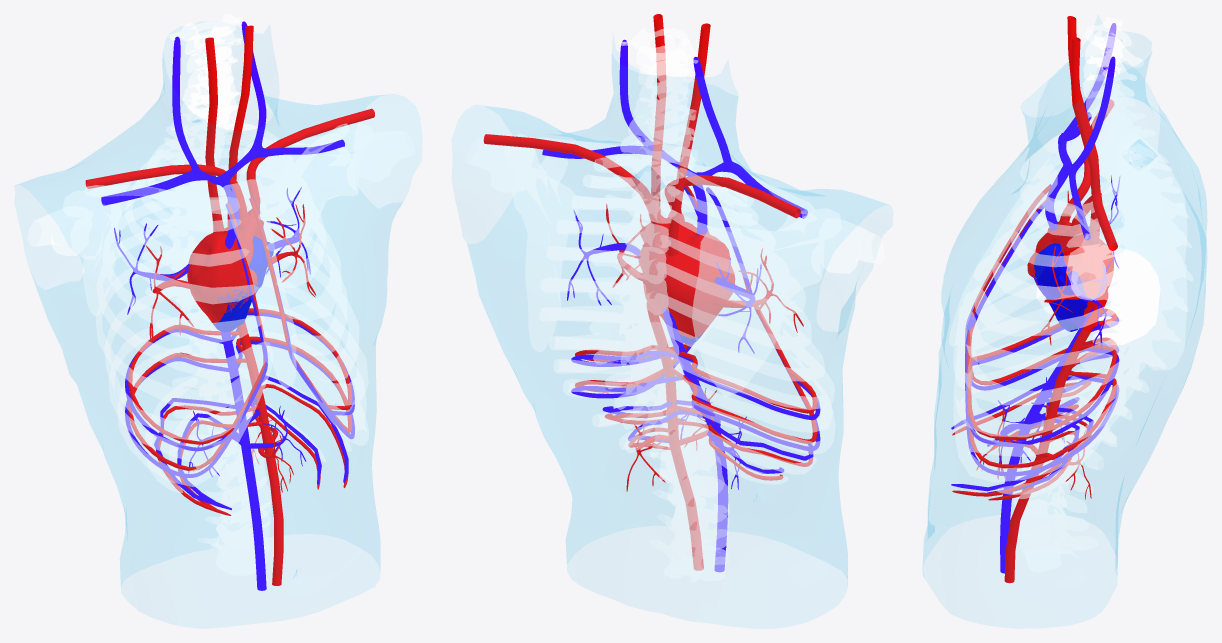
The model's file is x-ray_torso.glb.
The picture shows the model from 3 angles, left to right: view 1: azimuth 30°, elevation 25°; view 2: azimuth 150°, elevation 25°; view 3: azimuth 270°, elevation 25°; orthographic projection. The views are drawn at different scales.
Visible parts, largest first — view 1: BONES_PELVIS_SkeletonMesh.006, Mesh.157_l-hip-upper-abdomen_b, RedV, BlueV, Heart, Cylinder.002; view 2: BONES_PELVIS_SkeletonMesh.006, Mesh.157_l-hip-upper-abdomen_b, RedV, BlueV, Heart, Cylinder.002; view 3: BONES_PELVIS_SkeletonMesh.006, Mesh.157_l-hip-upper-abdomen_b, RedV, BlueV, Heart, Cylinder.002.
Boxes of the visible parts, <box> form: BONES_PELVIS_SkeletonMesh.006: <box>28,14,414,575</box>; Mesh.157_l-hip-upper-abdomen_b: <box>18,53,402,584</box>; RedV: <box>85,25,374,585</box>; BlueV: <box>101,21,354,590</box>; Heart: <box>187,208,273,332</box>; Cylinder.002: <box>154,375,348,509</box>; BONES_PELVIS_SkeletonMesh.006: <box>465,28,884,582</box>; Mesh.157_l-hip-upper-abdomen_b: <box>468,55,887,584</box>; RedV: <box>483,14,817,570</box>; BlueV: <box>542,39,820,571</box>; Heart: <box>639,211,734,344</box>; Cylinder.002: <box>602,400,813,473</box>; BONES_PELVIS_SkeletonMesh.006: <box>949,17,1193,572</box>; Mesh.157_l-hip-upper-abdomen_b: <box>923,53,1206,577</box>; RedV: <box>952,16,1117,583</box>; BlueV: <box>965,23,1119,573</box>; Heart: <box>1027,219,1113,331</box>; Cylinder.002: <box>951,376,1093,492</box>.
Size of the model in its own units: 9.83 by 13.14 by 6.22.
5 materials, 1 textured.
